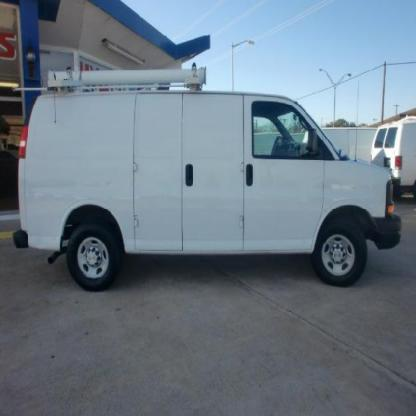Vehicle: (14, 67, 404, 289)
